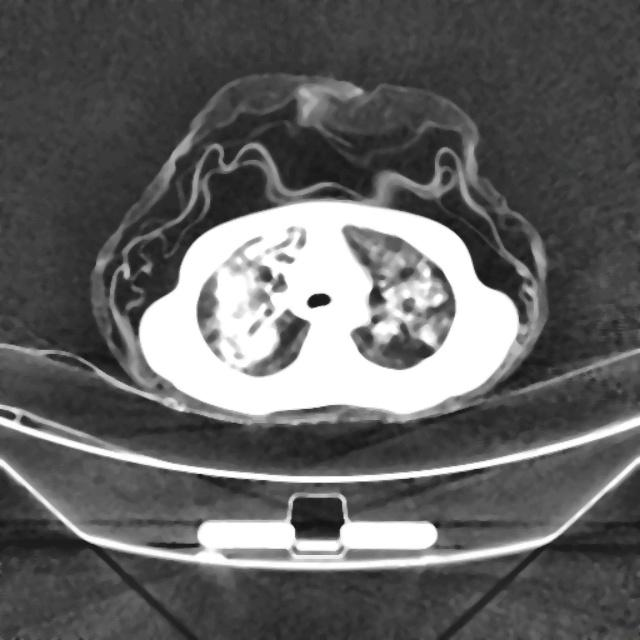covid: (88, 71, 550, 425)
